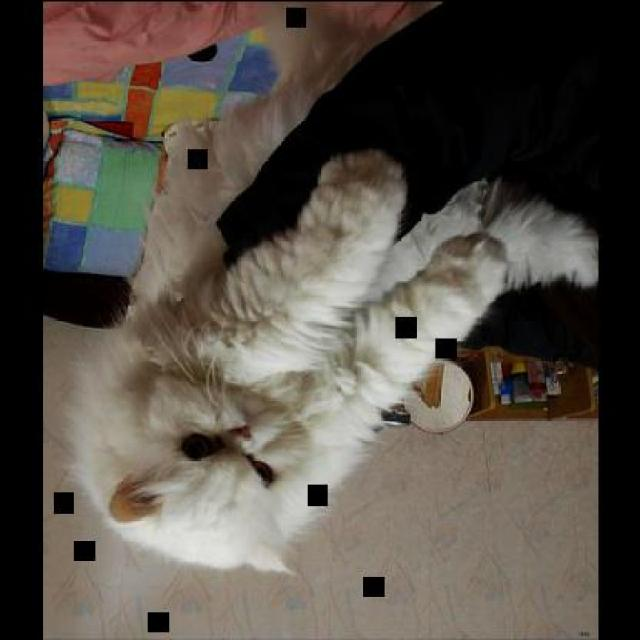unauthorized: (47, 2, 598, 576)
